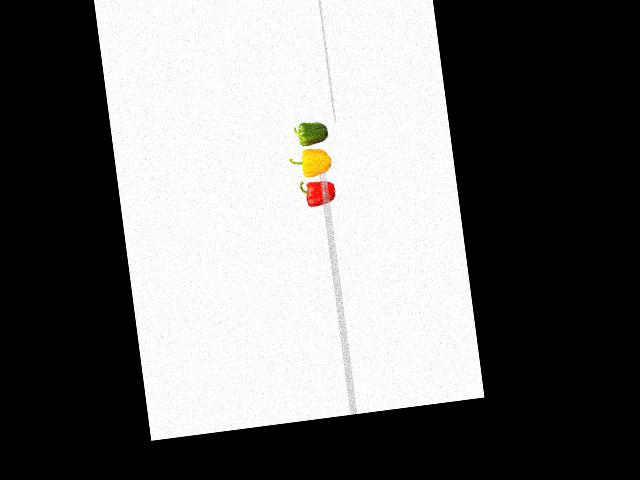bell_pepper: (287, 116, 331, 147)
